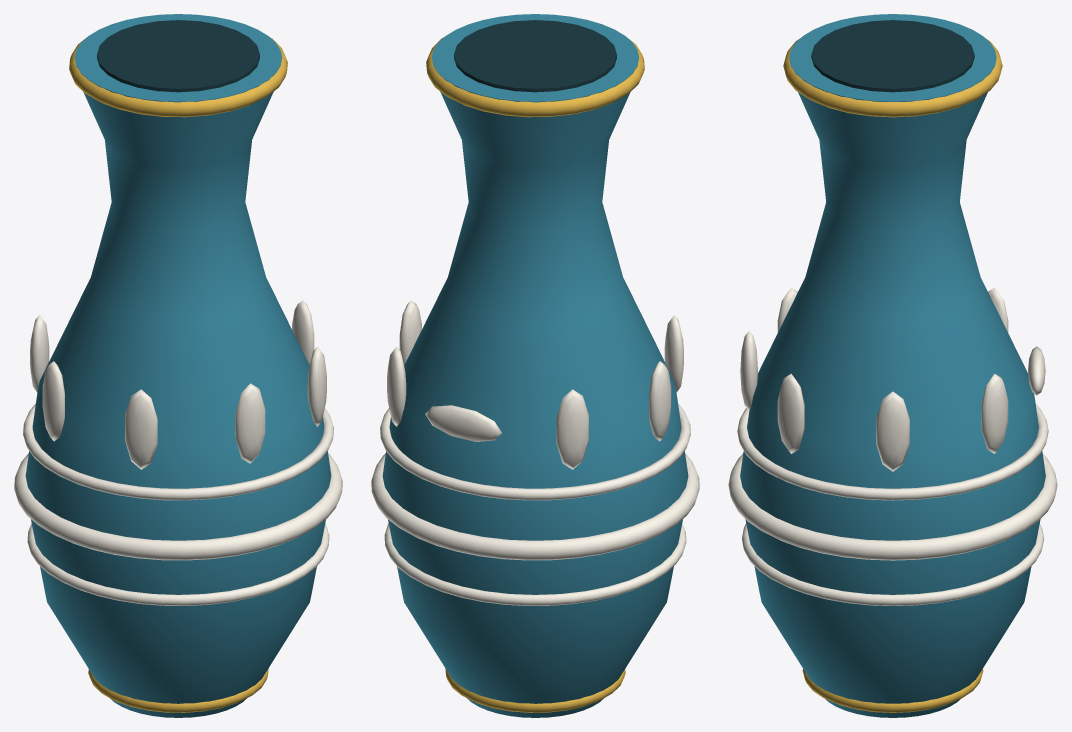
Rendered from piece_vase.fbx.
3 views of the same model, side by side, from view 1: azimuth 30°, elevation 25°; view 2: azimuth 150°, elevation 25°; view 3: azimuth 270°, elevation 25° (orthographic).
Visible parts, largest first — view 1: piece_vase; view 2: piece_vase; view 3: piece_vase.
Part boxes in pixels (x1,y1,x2,y2): piece_vase: [14, 14, 342, 717]; piece_vase: [371, 14, 699, 717]; piece_vase: [728, 14, 1057, 717].
Size of the model in its own units: 0.222 by 0.4705 by 0.222.
